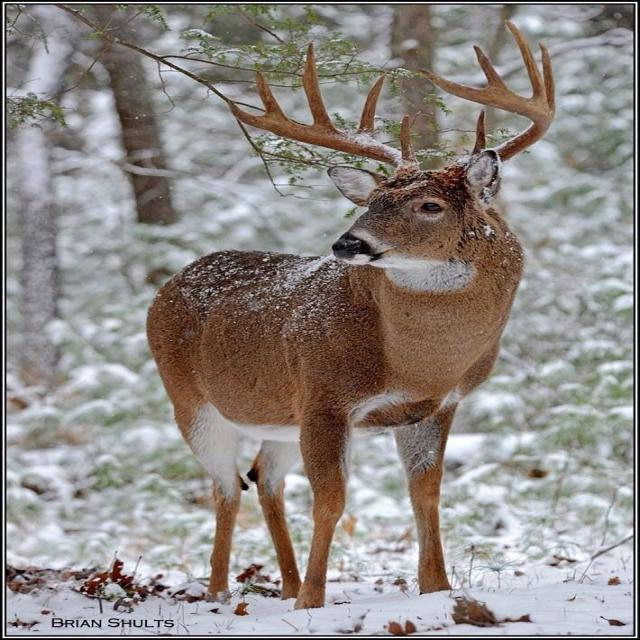L-G1: (472, 109, 486, 155)
L-G3: (503, 19, 548, 102)
L-G4: (473, 45, 511, 91)
R-F: (227, 99, 420, 174)
R-G1: (400, 114, 415, 162)
R-G2: (356, 74, 387, 137)
R-G3: (302, 42, 335, 128)
R-G4: (254, 69, 287, 119)
